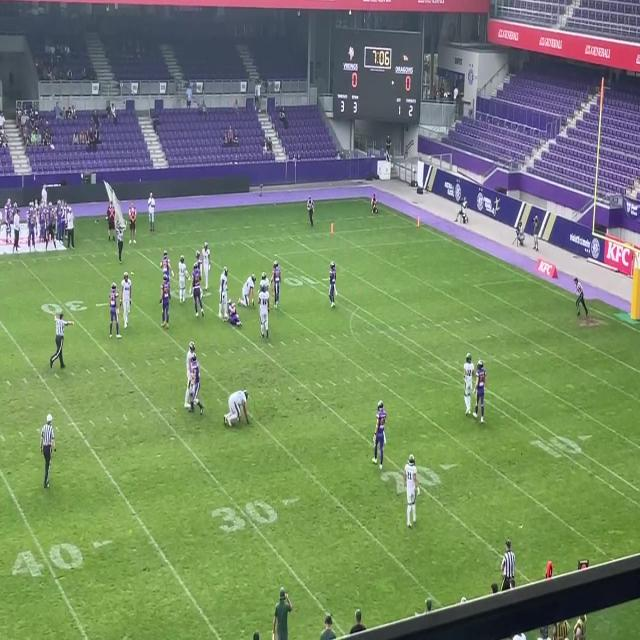1: (527, 436, 567, 461)
3: (211, 500, 247, 540)
4: (10, 542, 46, 588)
american-football-players: (403, 452, 422, 526), (222, 388, 250, 427), (471, 358, 487, 424), (372, 402, 387, 471), (189, 356, 204, 420), (185, 334, 197, 406), (108, 280, 122, 339), (463, 352, 475, 417), (258, 285, 272, 340), (158, 275, 172, 328), (191, 263, 205, 316), (159, 248, 175, 290), (177, 255, 191, 301), (121, 271, 132, 329), (269, 261, 283, 305), (327, 261, 340, 308), (238, 273, 255, 307), (227, 299, 244, 331), (200, 239, 212, 283), (218, 266, 228, 318), (192, 247, 204, 275), (259, 272, 272, 297)
